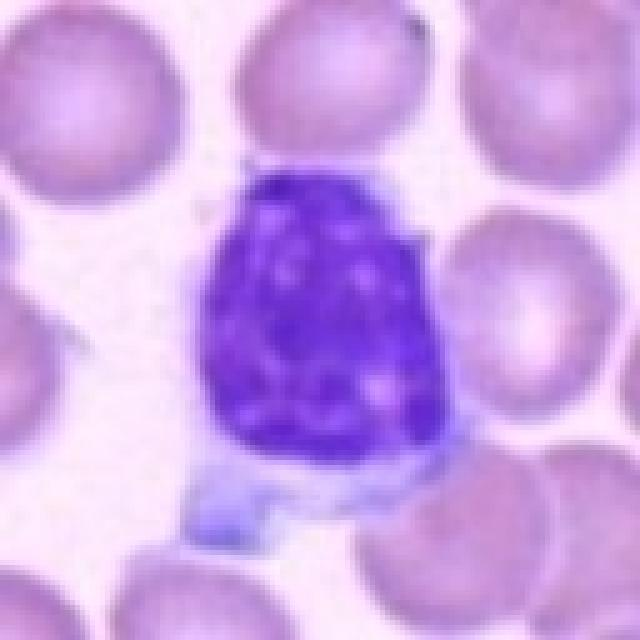lympho: (178, 150, 474, 555)
